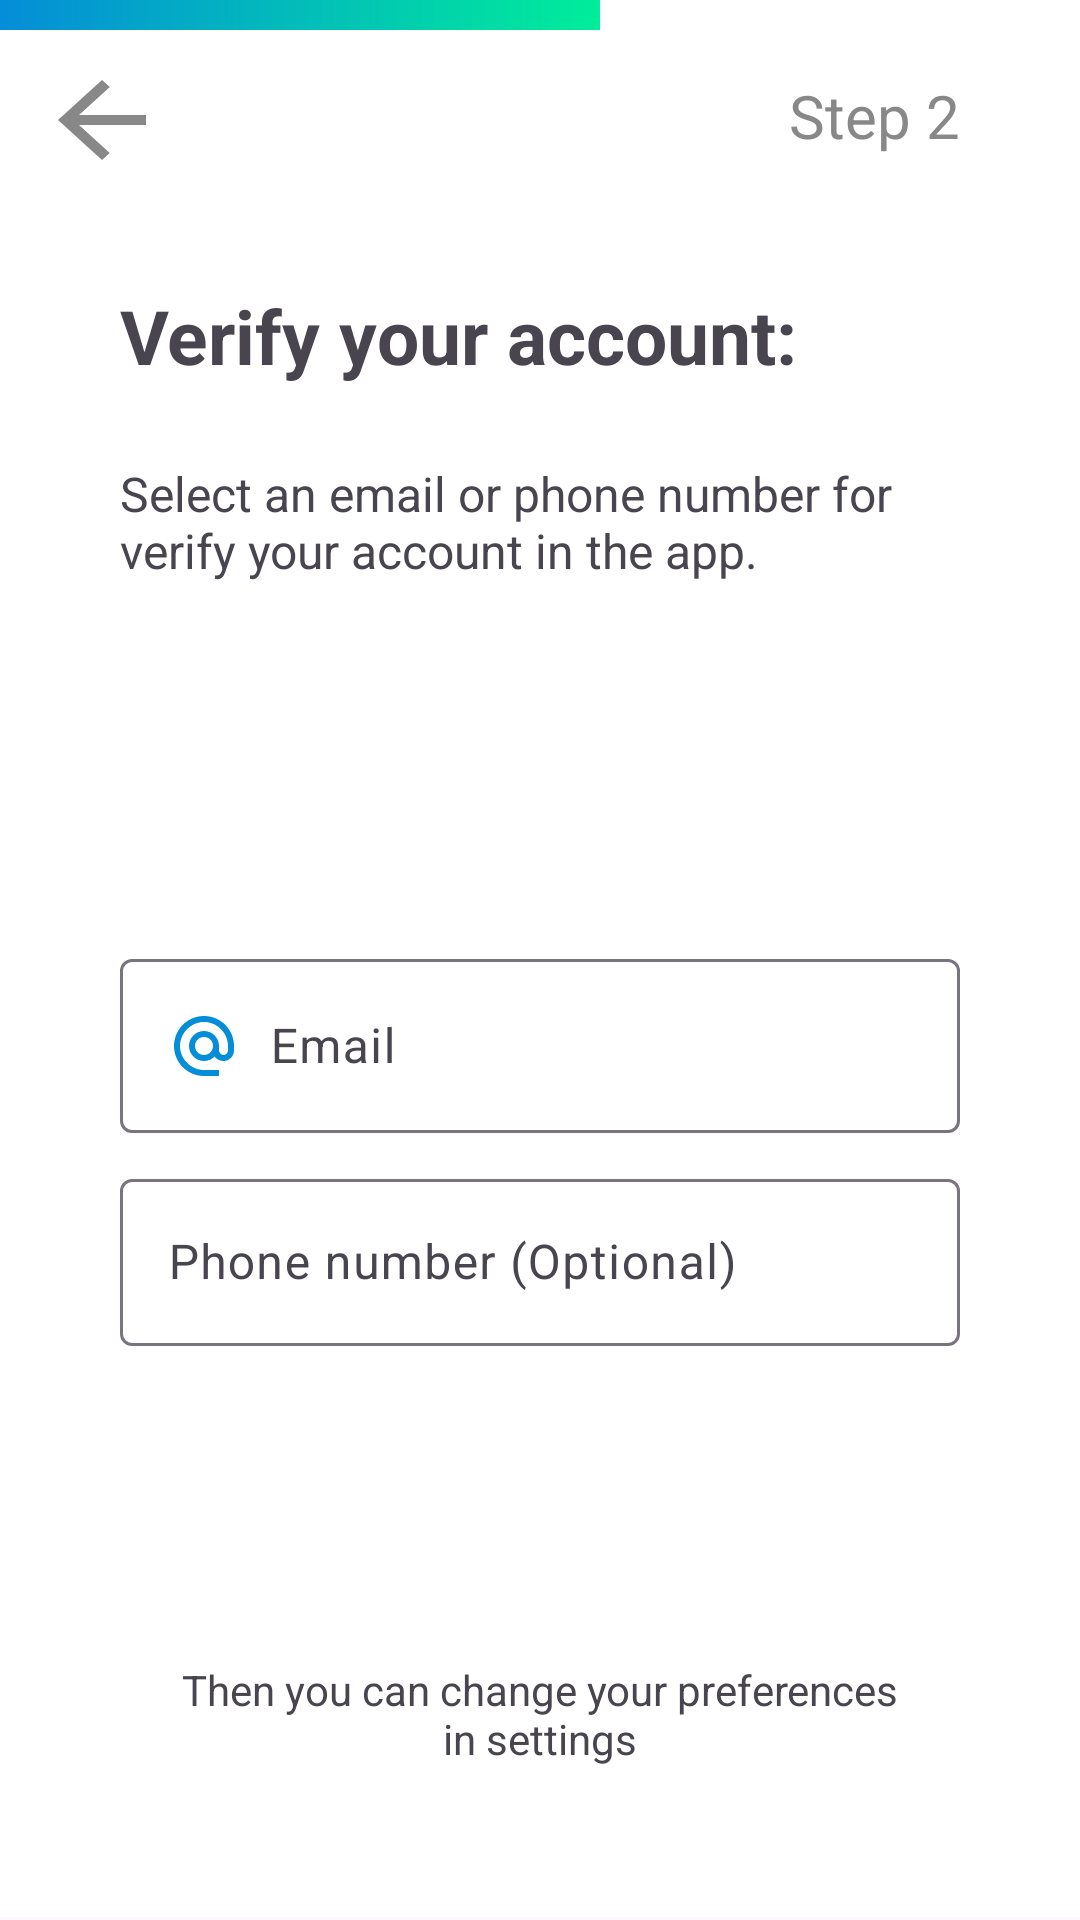

Where icons sit on this 1080 × 1920 app screen, as [x1, y1, x2, y2]:
go back: [58, 80, 146, 160]
